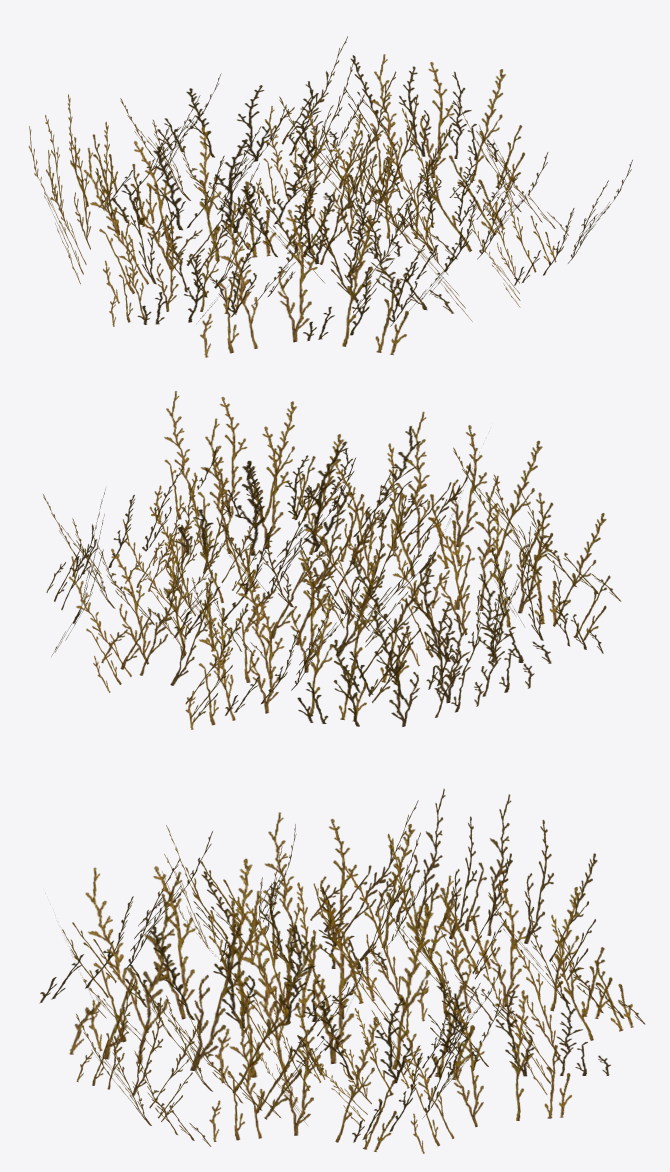
File: grass100.glb
3 views of the same model, one above another, from view 1: azimuth 30°, elevation 25°; view 2: azimuth 150°, elevation 25°; view 3: azimuth 270°, elevation 25° (orthographic). The views are drawn at different scales.
Visible parts, largest first — view 1: grass100; view 2: grass100; view 3: grass100.
Part boxes in pixels (x1,y1,x2,y2): grass100: [28, 36, 632, 357]; grass100: [43, 391, 621, 729]; grass100: [39, 789, 645, 1153].
Bounding box in the file's own units: 5.45 × 1.4 × 5.21.
1 material, 1 textured.
